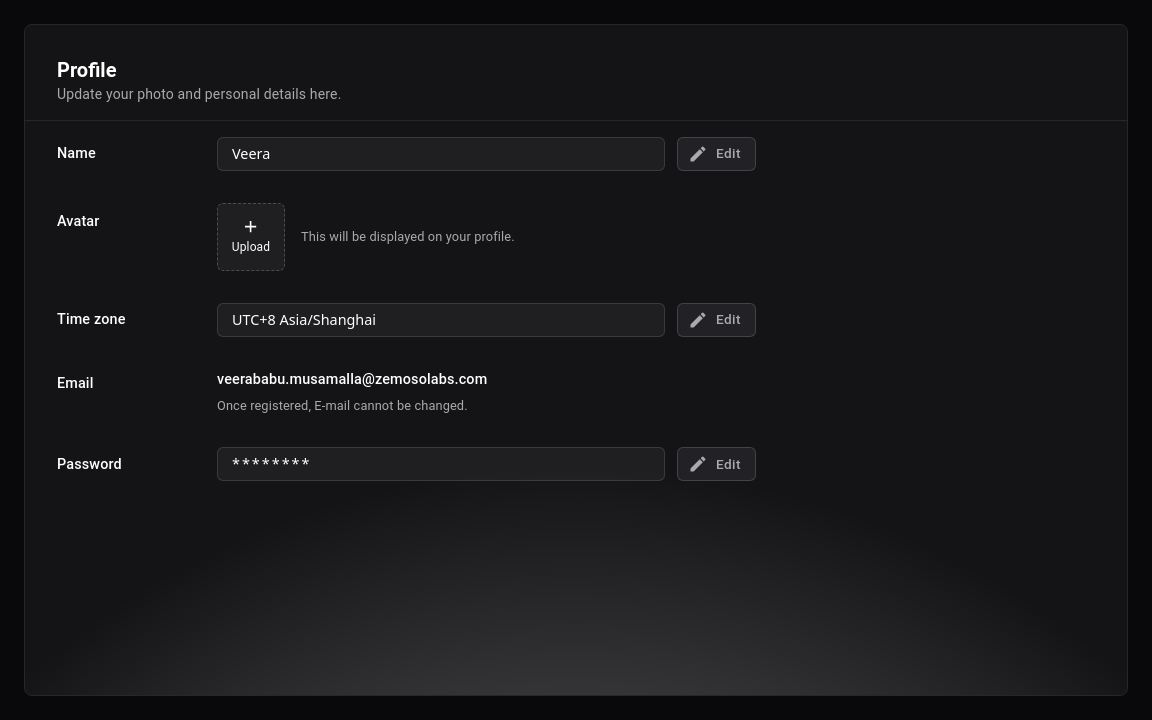
ProfileSettingPage Component › opens and closes Timezone modal correctly
What coordinates should you click on to do the following:
click the button "Edit" in the row of "UTC+8 Asia/Shanghai"
I would click on:
 (716, 320)
Its box is [677,303,756,337].
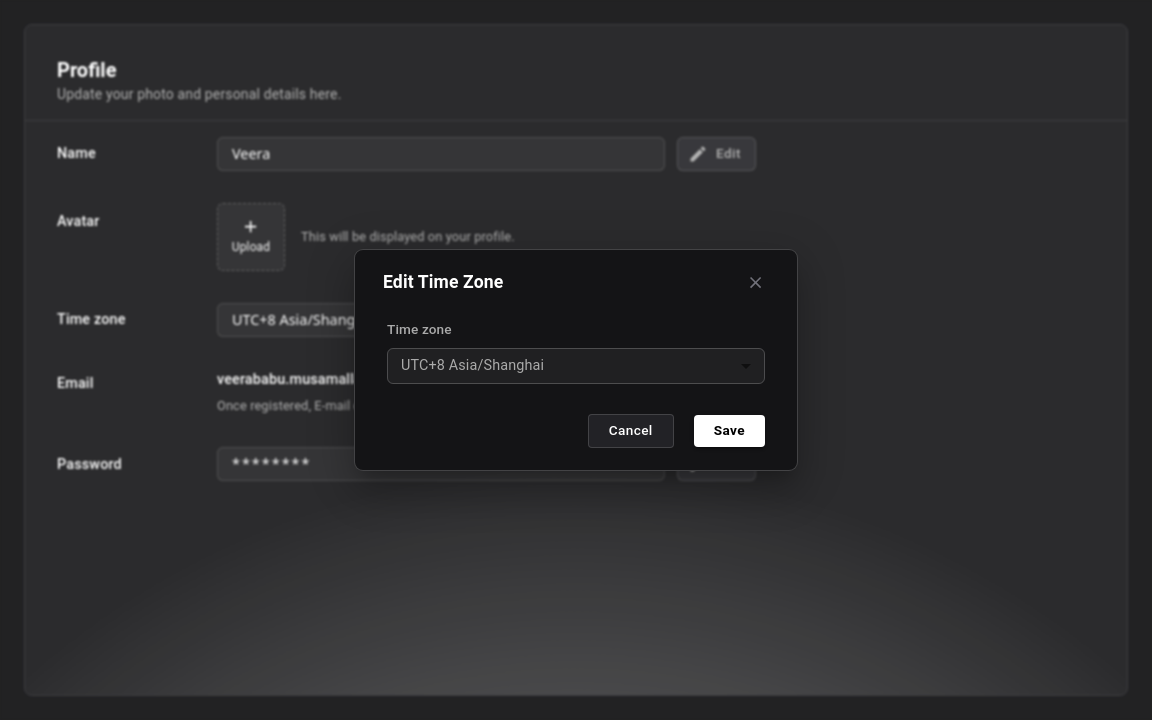
Expected: the heading "Edit Time Zone" is shown, [383,268,504,296]
What coordinates should you click on to do the following:
click the button "Cancel"
I would click on:
 (631, 431)
Its box is [588,414,674,448].
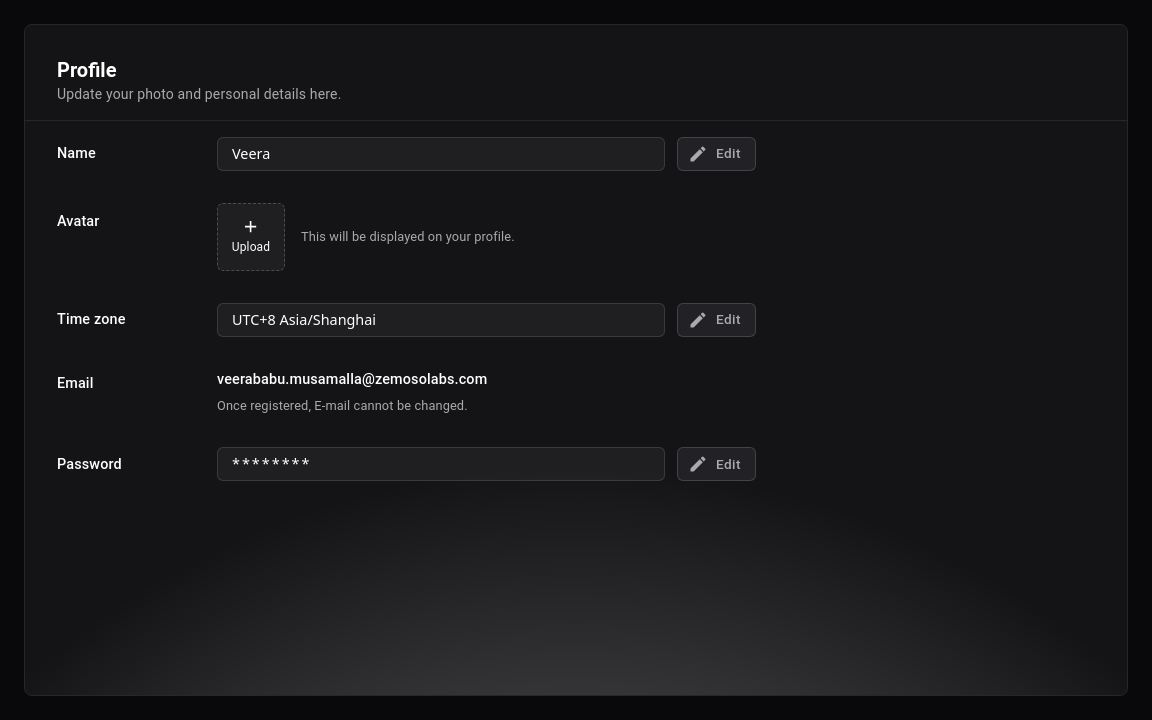
Expected: the heading "Edit Time Zone" is gone
